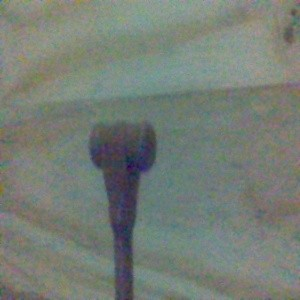palu: (87, 116, 158, 300)
